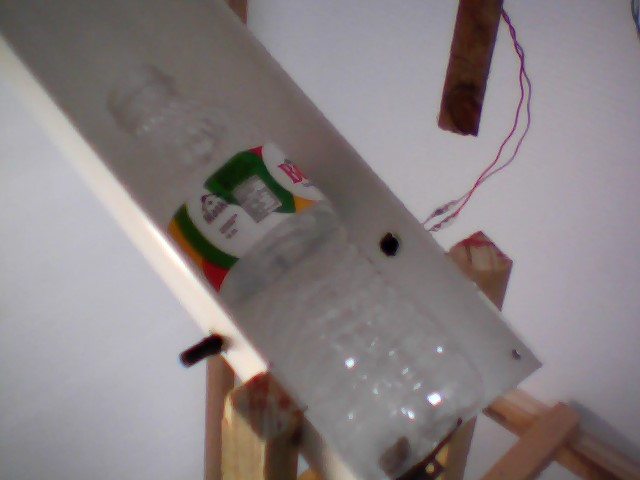plastico: (102, 59, 496, 480)
